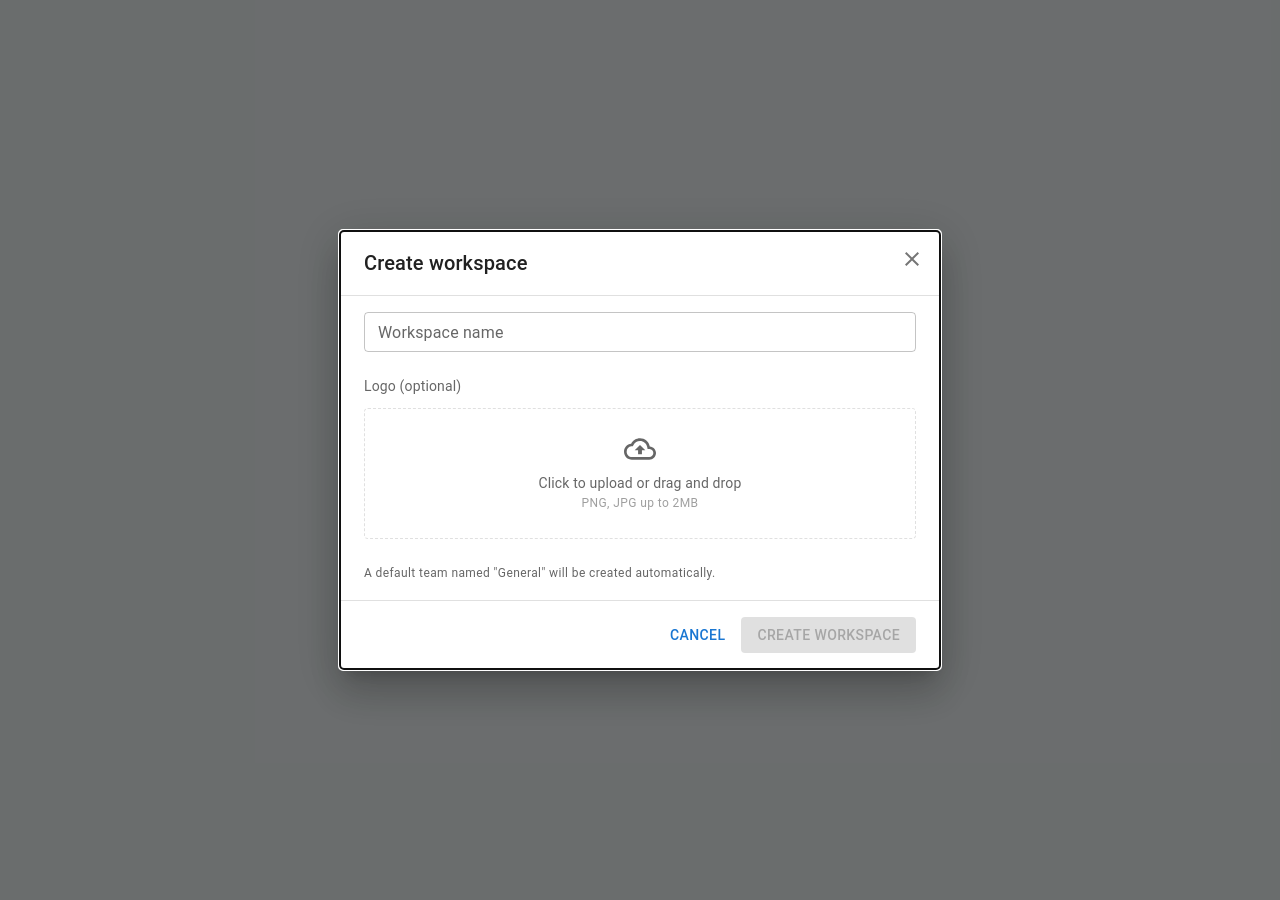
Test: CreateWorkspaceDialog › shows an inline error and does not close on workspace_limit_reached
Type "Acme Corp" into the field labelled "Workspace name" at (640, 332), box [364,312,916,352]
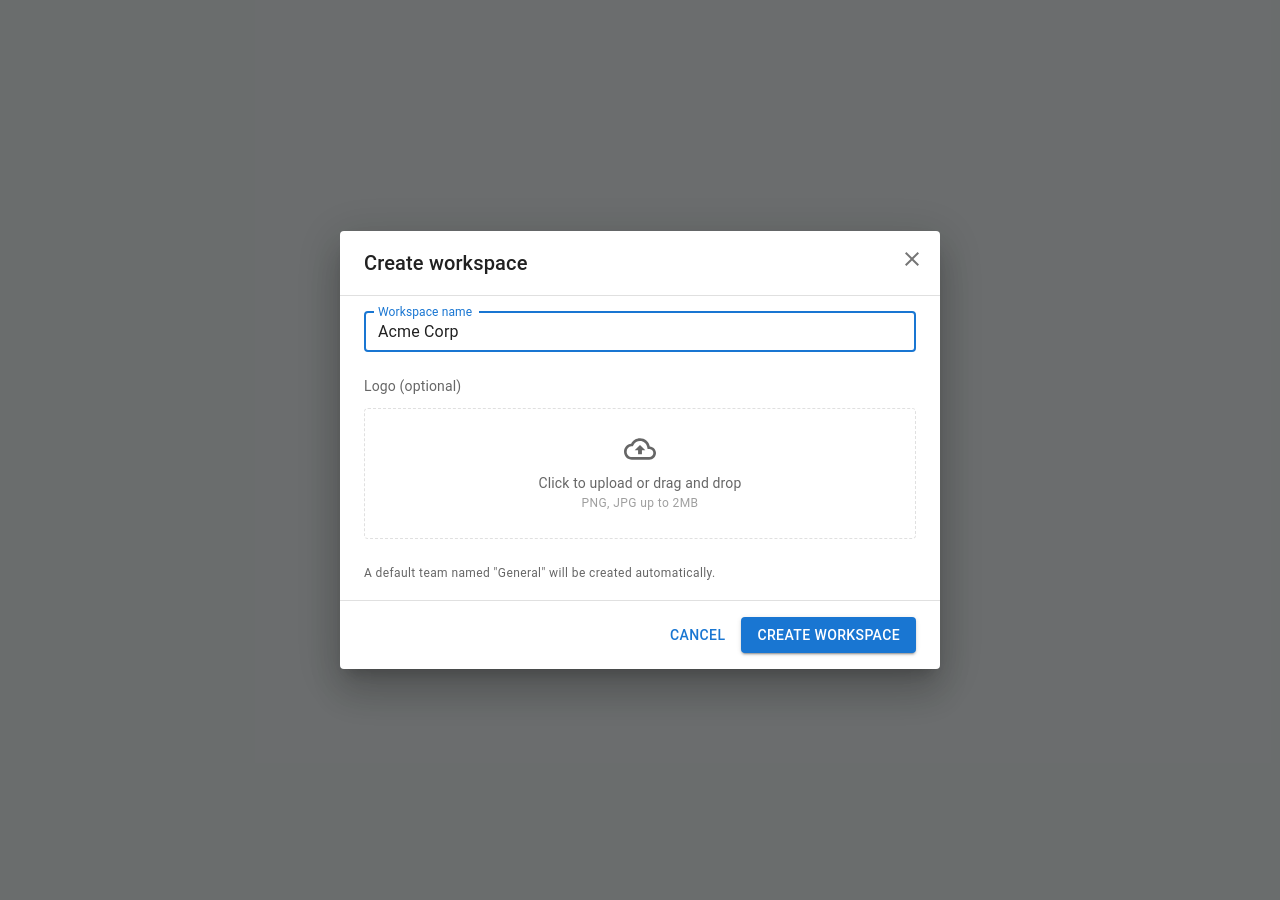
Click the button "Create workspace" at (829, 635), box [741,617,916,653]
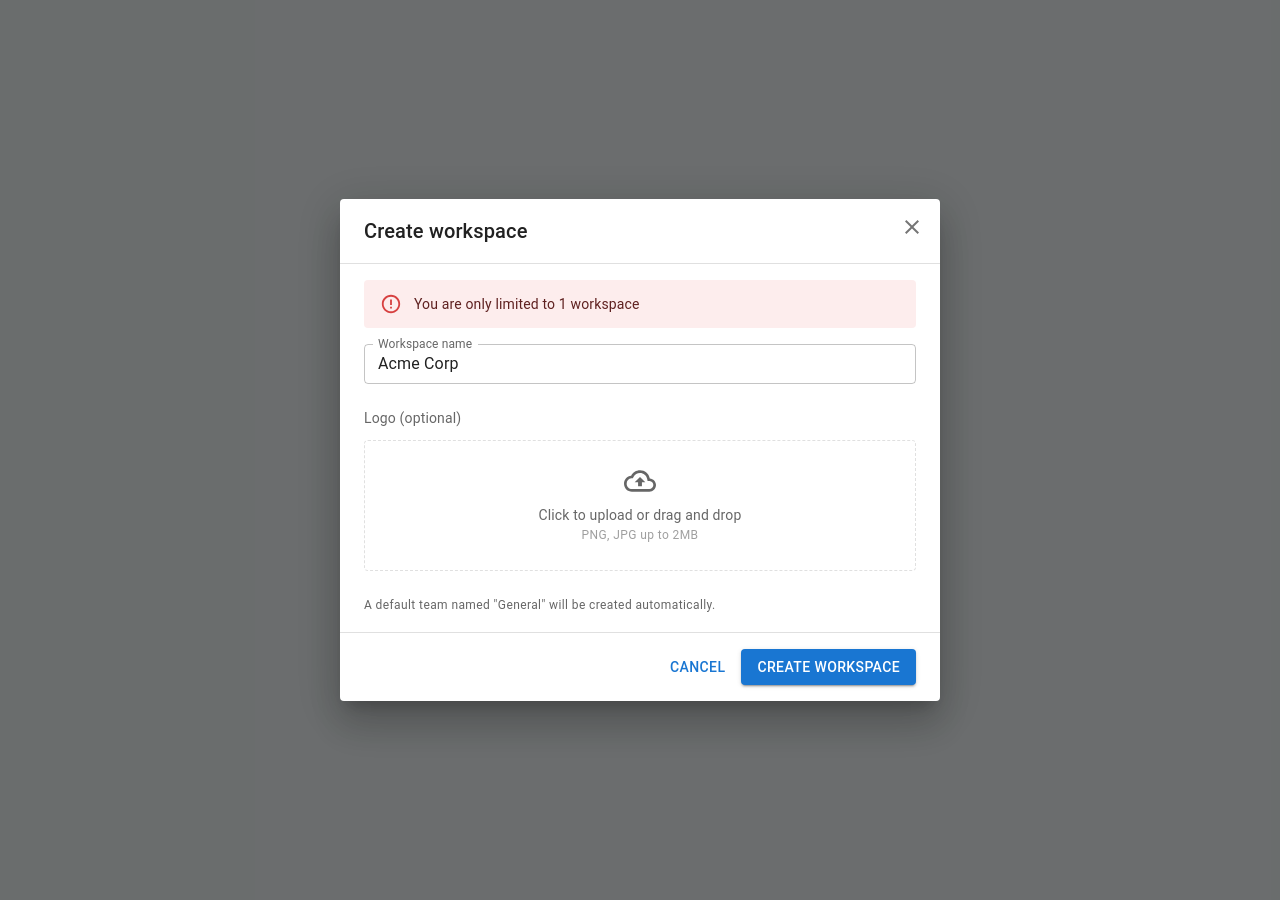
Now the text "You are only limited to 1 workspace" is shown, box [414,296,640,312]
